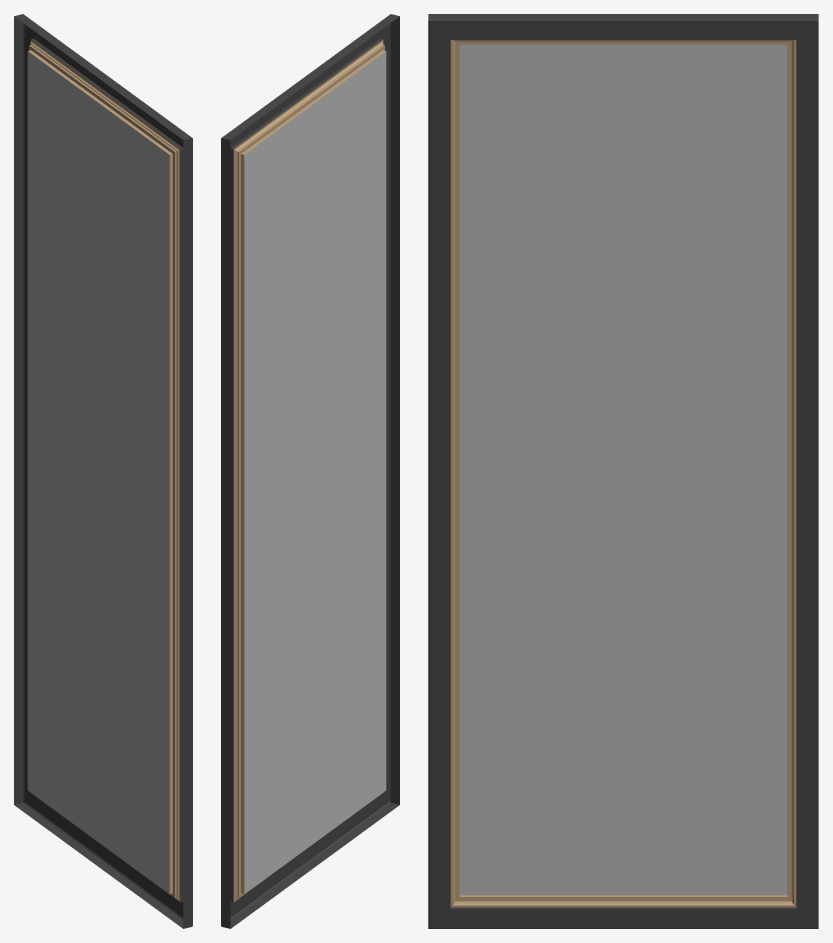
File: SM_Mirror_01.fbx
3 views of the same model, side by side, from view 1: azimuth 30°, elevation 25°; view 2: azimuth 150°, elevation 25°; view 3: azimuth 270°, elevation 25° (orthographic). The views are drawn at different scales.
Visible parts, largest first — view 1: SM_Mirror_01; view 2: SM_Mirror_01; view 3: SM_Mirror_01.
Boxes of the visible parts, box(x1,y1,x2,y2) form: SM_Mirror_01: box(14, 14, 192, 928); SM_Mirror_01: box(221, 14, 399, 928); SM_Mirror_01: box(428, 14, 818, 928).
Bounding box in the file's own units: 3 × 223 × 86.62.
